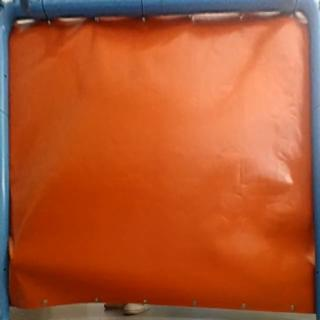Hit-hRxx: (8, 252, 24, 270)
